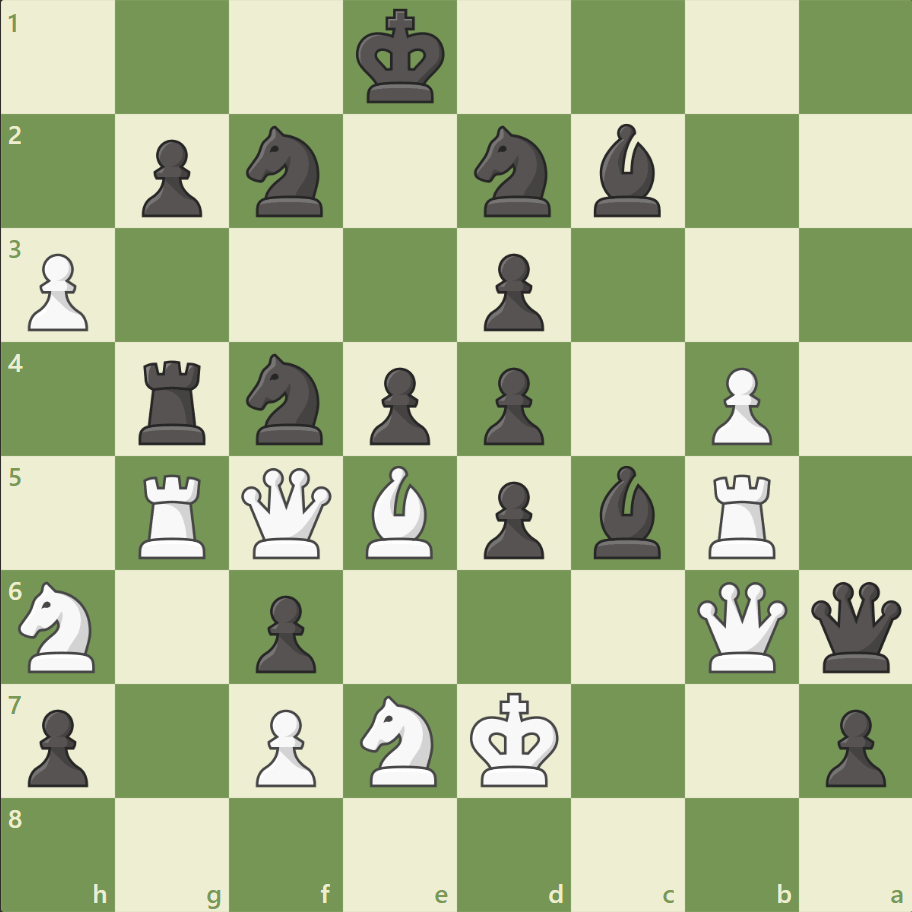B: (358, 460, 442, 563)
K: (465, 685, 565, 793)
N: (351, 688, 449, 791), (11, 575, 108, 677)
P: (247, 700, 322, 791), (701, 359, 776, 450), (20, 246, 95, 337)
Q: (691, 576, 790, 676), (237, 463, 336, 562)
R: (700, 466, 783, 563), (133, 466, 215, 563)
b: (585, 460, 669, 563), (585, 120, 669, 222)
k: (351, 4, 451, 112)
n: (238, 348, 335, 450), (465, 121, 562, 223), (238, 121, 335, 223)
p: (20, 700, 95, 791), (247, 586, 322, 677), (474, 473, 549, 564), (474, 359, 549, 450), (474, 246, 549, 337), (133, 132, 208, 223), (815, 700, 889, 791), (361, 359, 435, 450)
q: (805, 576, 904, 676)
r: (133, 352, 215, 449)
